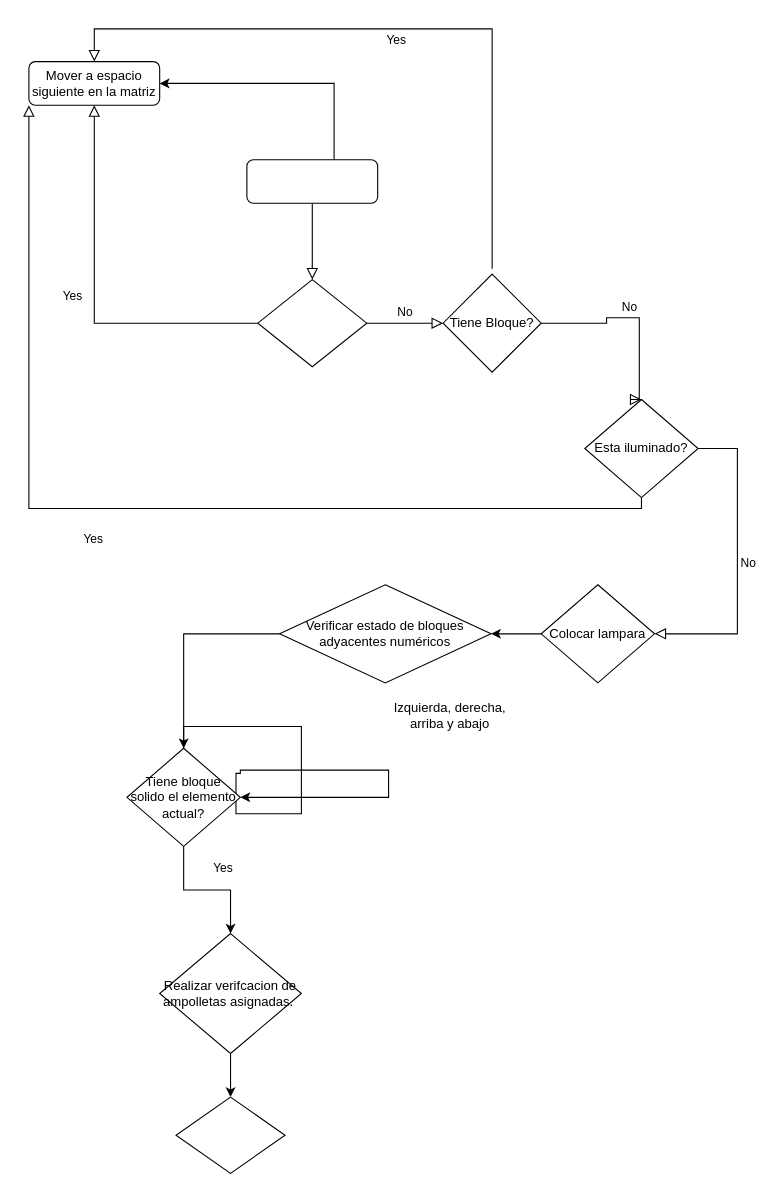
Image size: 775x1192. Some labels were removed from this diagram. The shapes that lost their labels are listed below. From the top down, each one's box as (x1, y1, x2, y2) in pixels, then its label:
(246, 159, 378, 203): Espacio Seleccionado
(257, 278, 367, 367): Tiene Lampara
(175, 1096, 285, 1173): Backtracking
